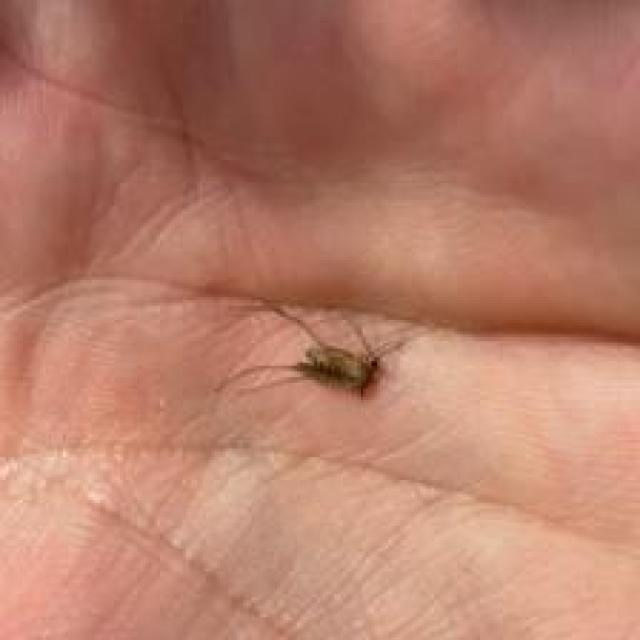Culex: (214, 303, 414, 403)
